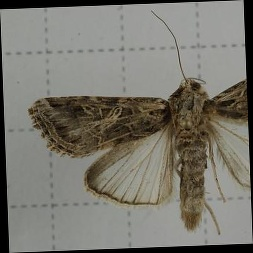Spodoptera litura: (27, 10, 249, 239)
